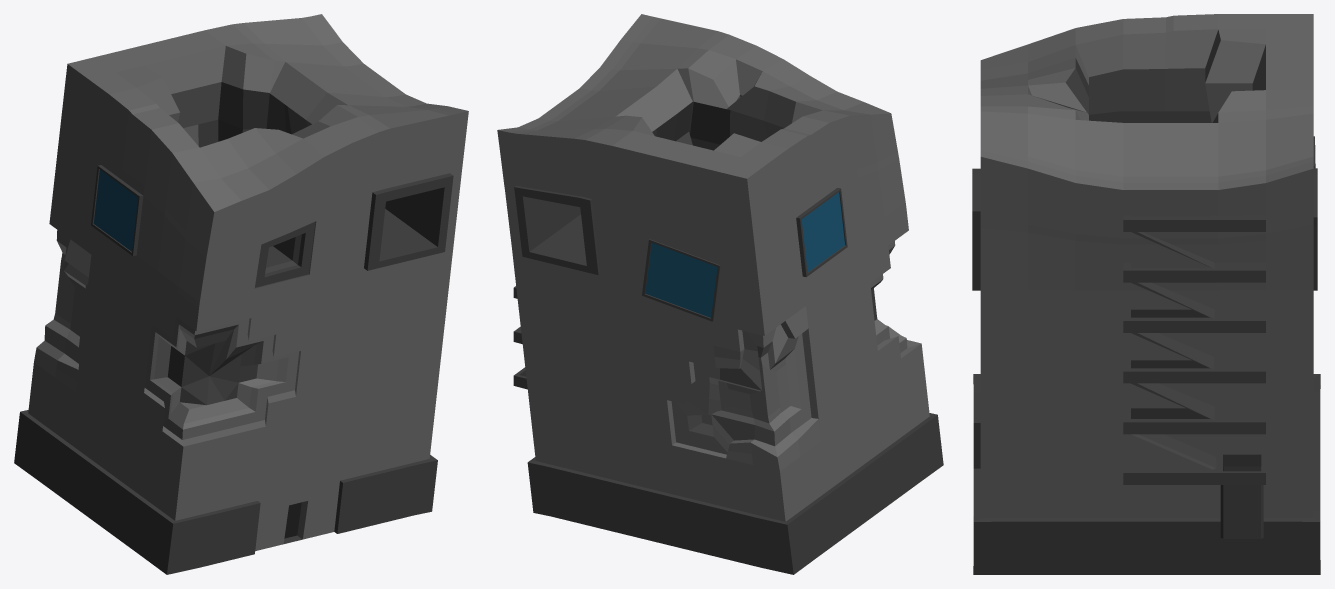
Rendered from Edificio en Ruinas.fbx.
3 views of the same model, side by side, from view 1: azimuth 30°, elevation 25°; view 2: azimuth 150°, elevation 25°; view 3: azimuth 270°, elevation 25° (orthographic). The views are drawn at different scales.
Parts seen in each view (by area): view 1: Cube; view 2: Cube; view 3: Cube.
Part boxes in pixels (x1,y1,x2,y2): Cube: [14, 14, 468, 574]; Cube: [497, 14, 943, 574]; Cube: [972, 14, 1320, 574].
Bounding box in the file's own units: 243 × 296 × 209.
Materials: 1 (1 with a texture image).
